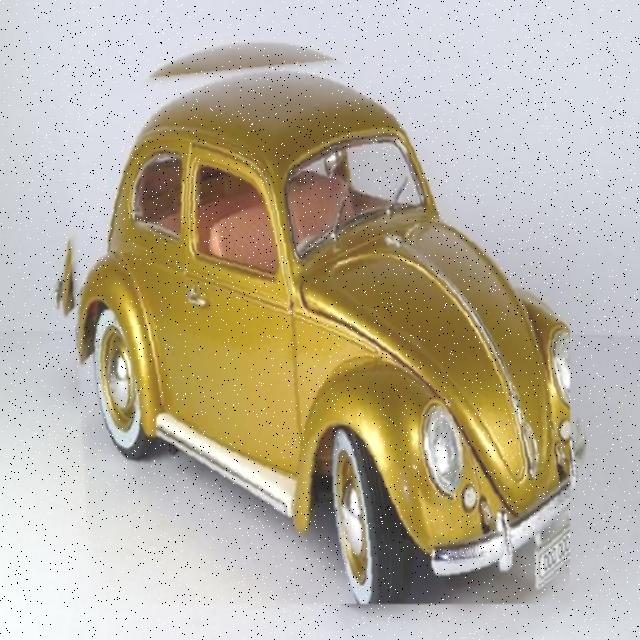car: (62, 38, 571, 605)
